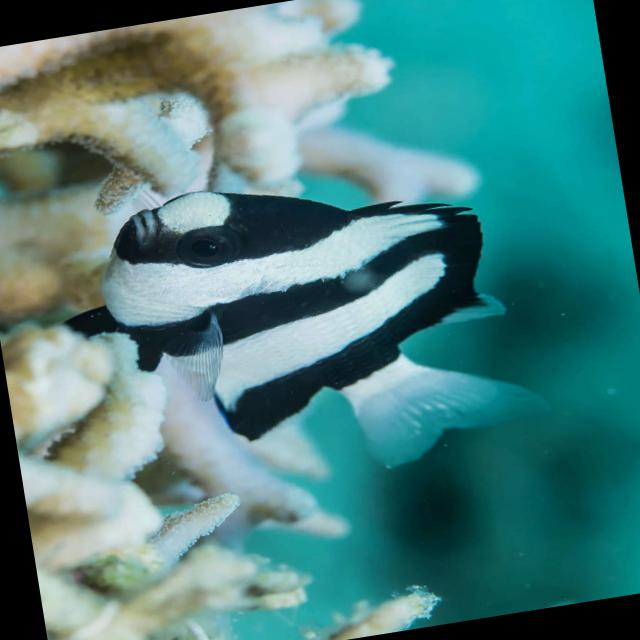ThreeStripedDamselfish: (44, 136, 569, 518)
